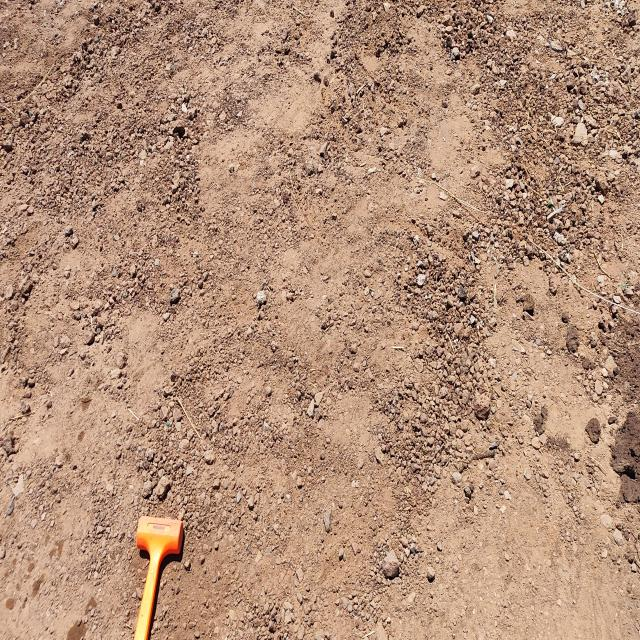Orange_hammer: (133, 515, 184, 638)
